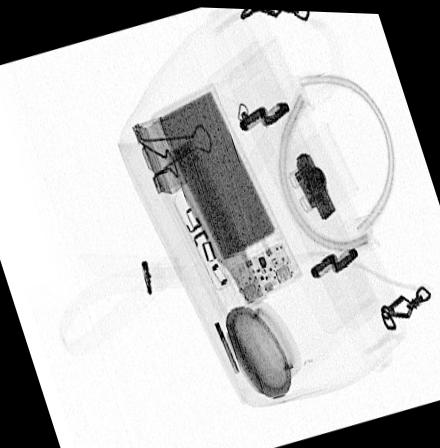Powerbank: (151, 80, 304, 309)
